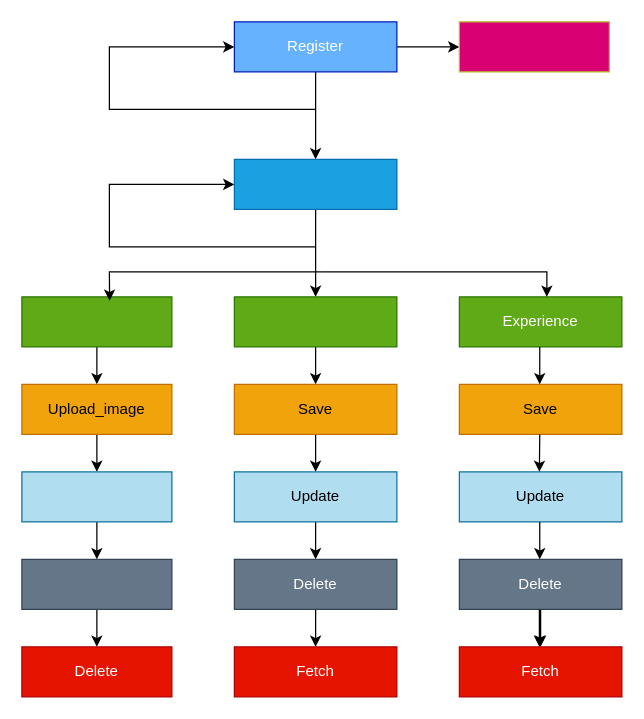
This 644x719 diagram has some shape labels left out. Here are the shapes that lost their labels. From the top down, the box of each, then its label:
(458, 21, 609, 72): Email
(233, 158, 397, 209): Login
(21, 296, 172, 347): Profile
(233, 296, 397, 347): EducationDetails
(21, 471, 172, 522): Fetch_image
(21, 558, 172, 609): Update_pwd
